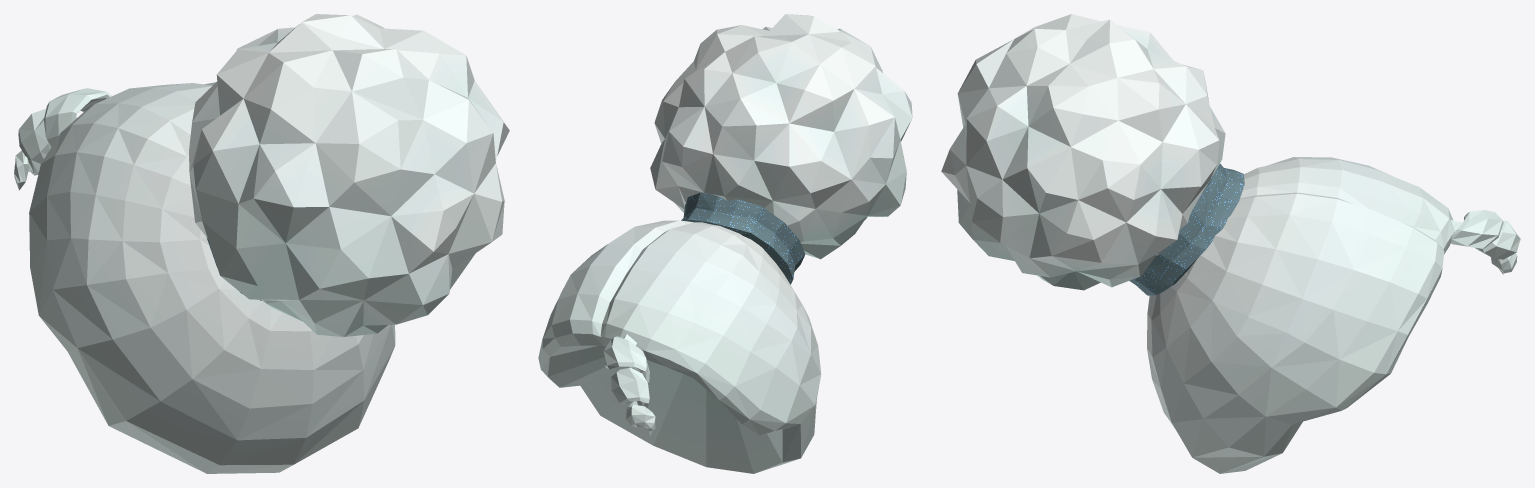
File: CharSkyKid_Hair_BallCurly.glb
3 renders of one model, left to right at view 1: azimuth 30°, elevation 25°; view 2: azimuth 150°, elevation 25°; view 3: azimuth 270°, elevation 25°, orthographic. The views are drawn at different scales.
Parts seen in each view (by area): view 1: CharSkyKid_Hair_BallCurly; view 2: CharSkyKid_Hair_BallCurly; view 3: CharSkyKid_Hair_BallCurly.
Boxes of the visible parts, x1,y1,x2,y2 form: CharSkyKid_Hair_BallCurly: [14, 14, 509, 473]; CharSkyKid_Hair_BallCurly: [538, 14, 912, 473]; CharSkyKid_Hair_BallCurly: [941, 14, 1520, 473].
Bounding box in the file's own units: 2.35 × 3.63 × 4.49.
Materials: 1 (1 with a texture image).
